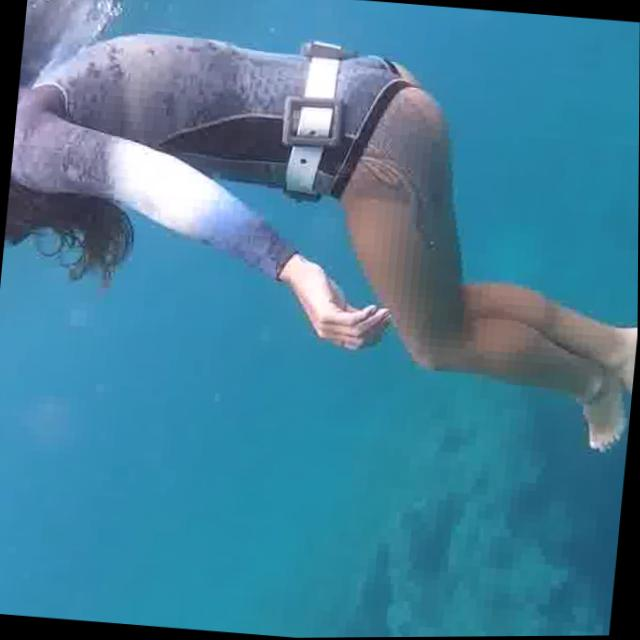human: (0, 5, 640, 477)
